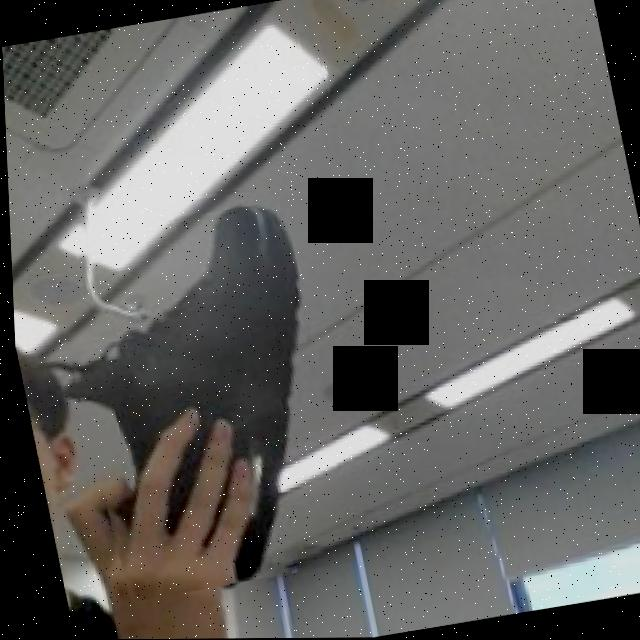shoe: (37, 199, 354, 606)
